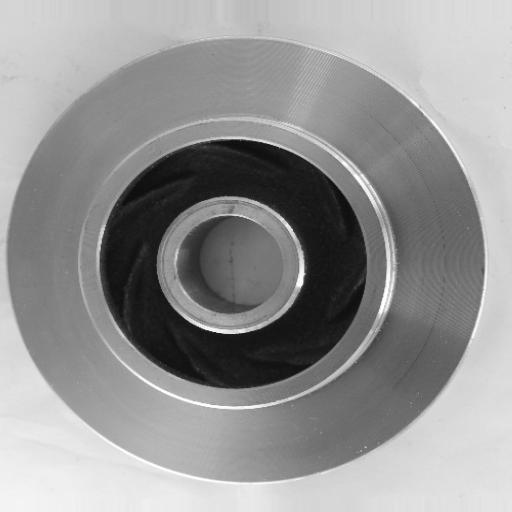polished_casting: (5, 36, 488, 485)
